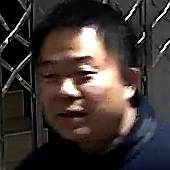caibo: (30, 25, 134, 148)
